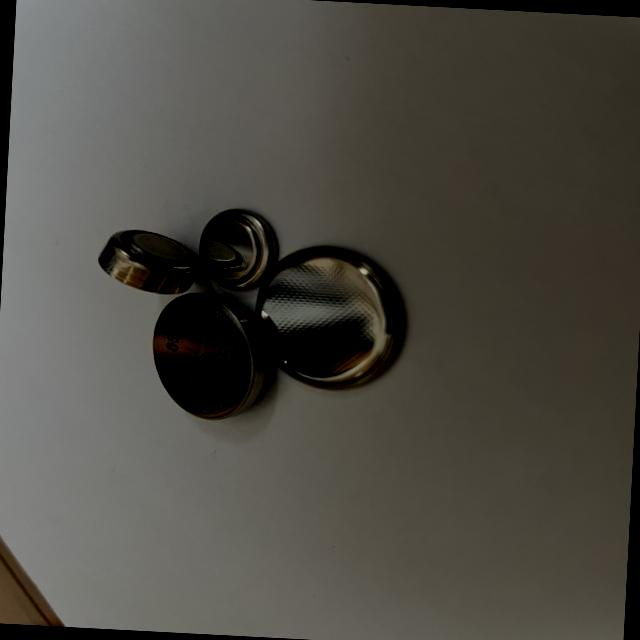COIN: (251, 240, 414, 394), (148, 290, 274, 424), (93, 223, 208, 297), (196, 204, 284, 290)
